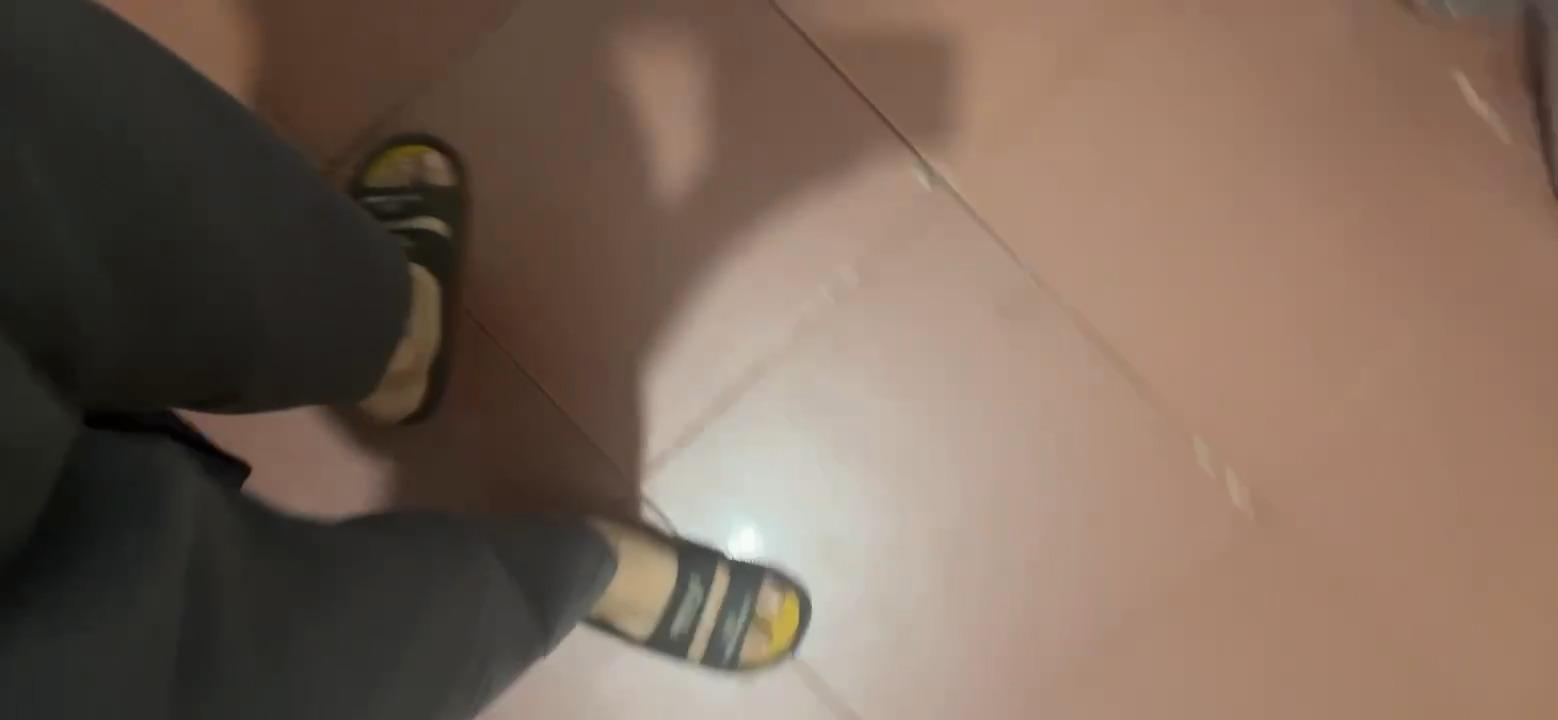no-boot: (551, 487, 811, 693), (337, 129, 478, 427)
